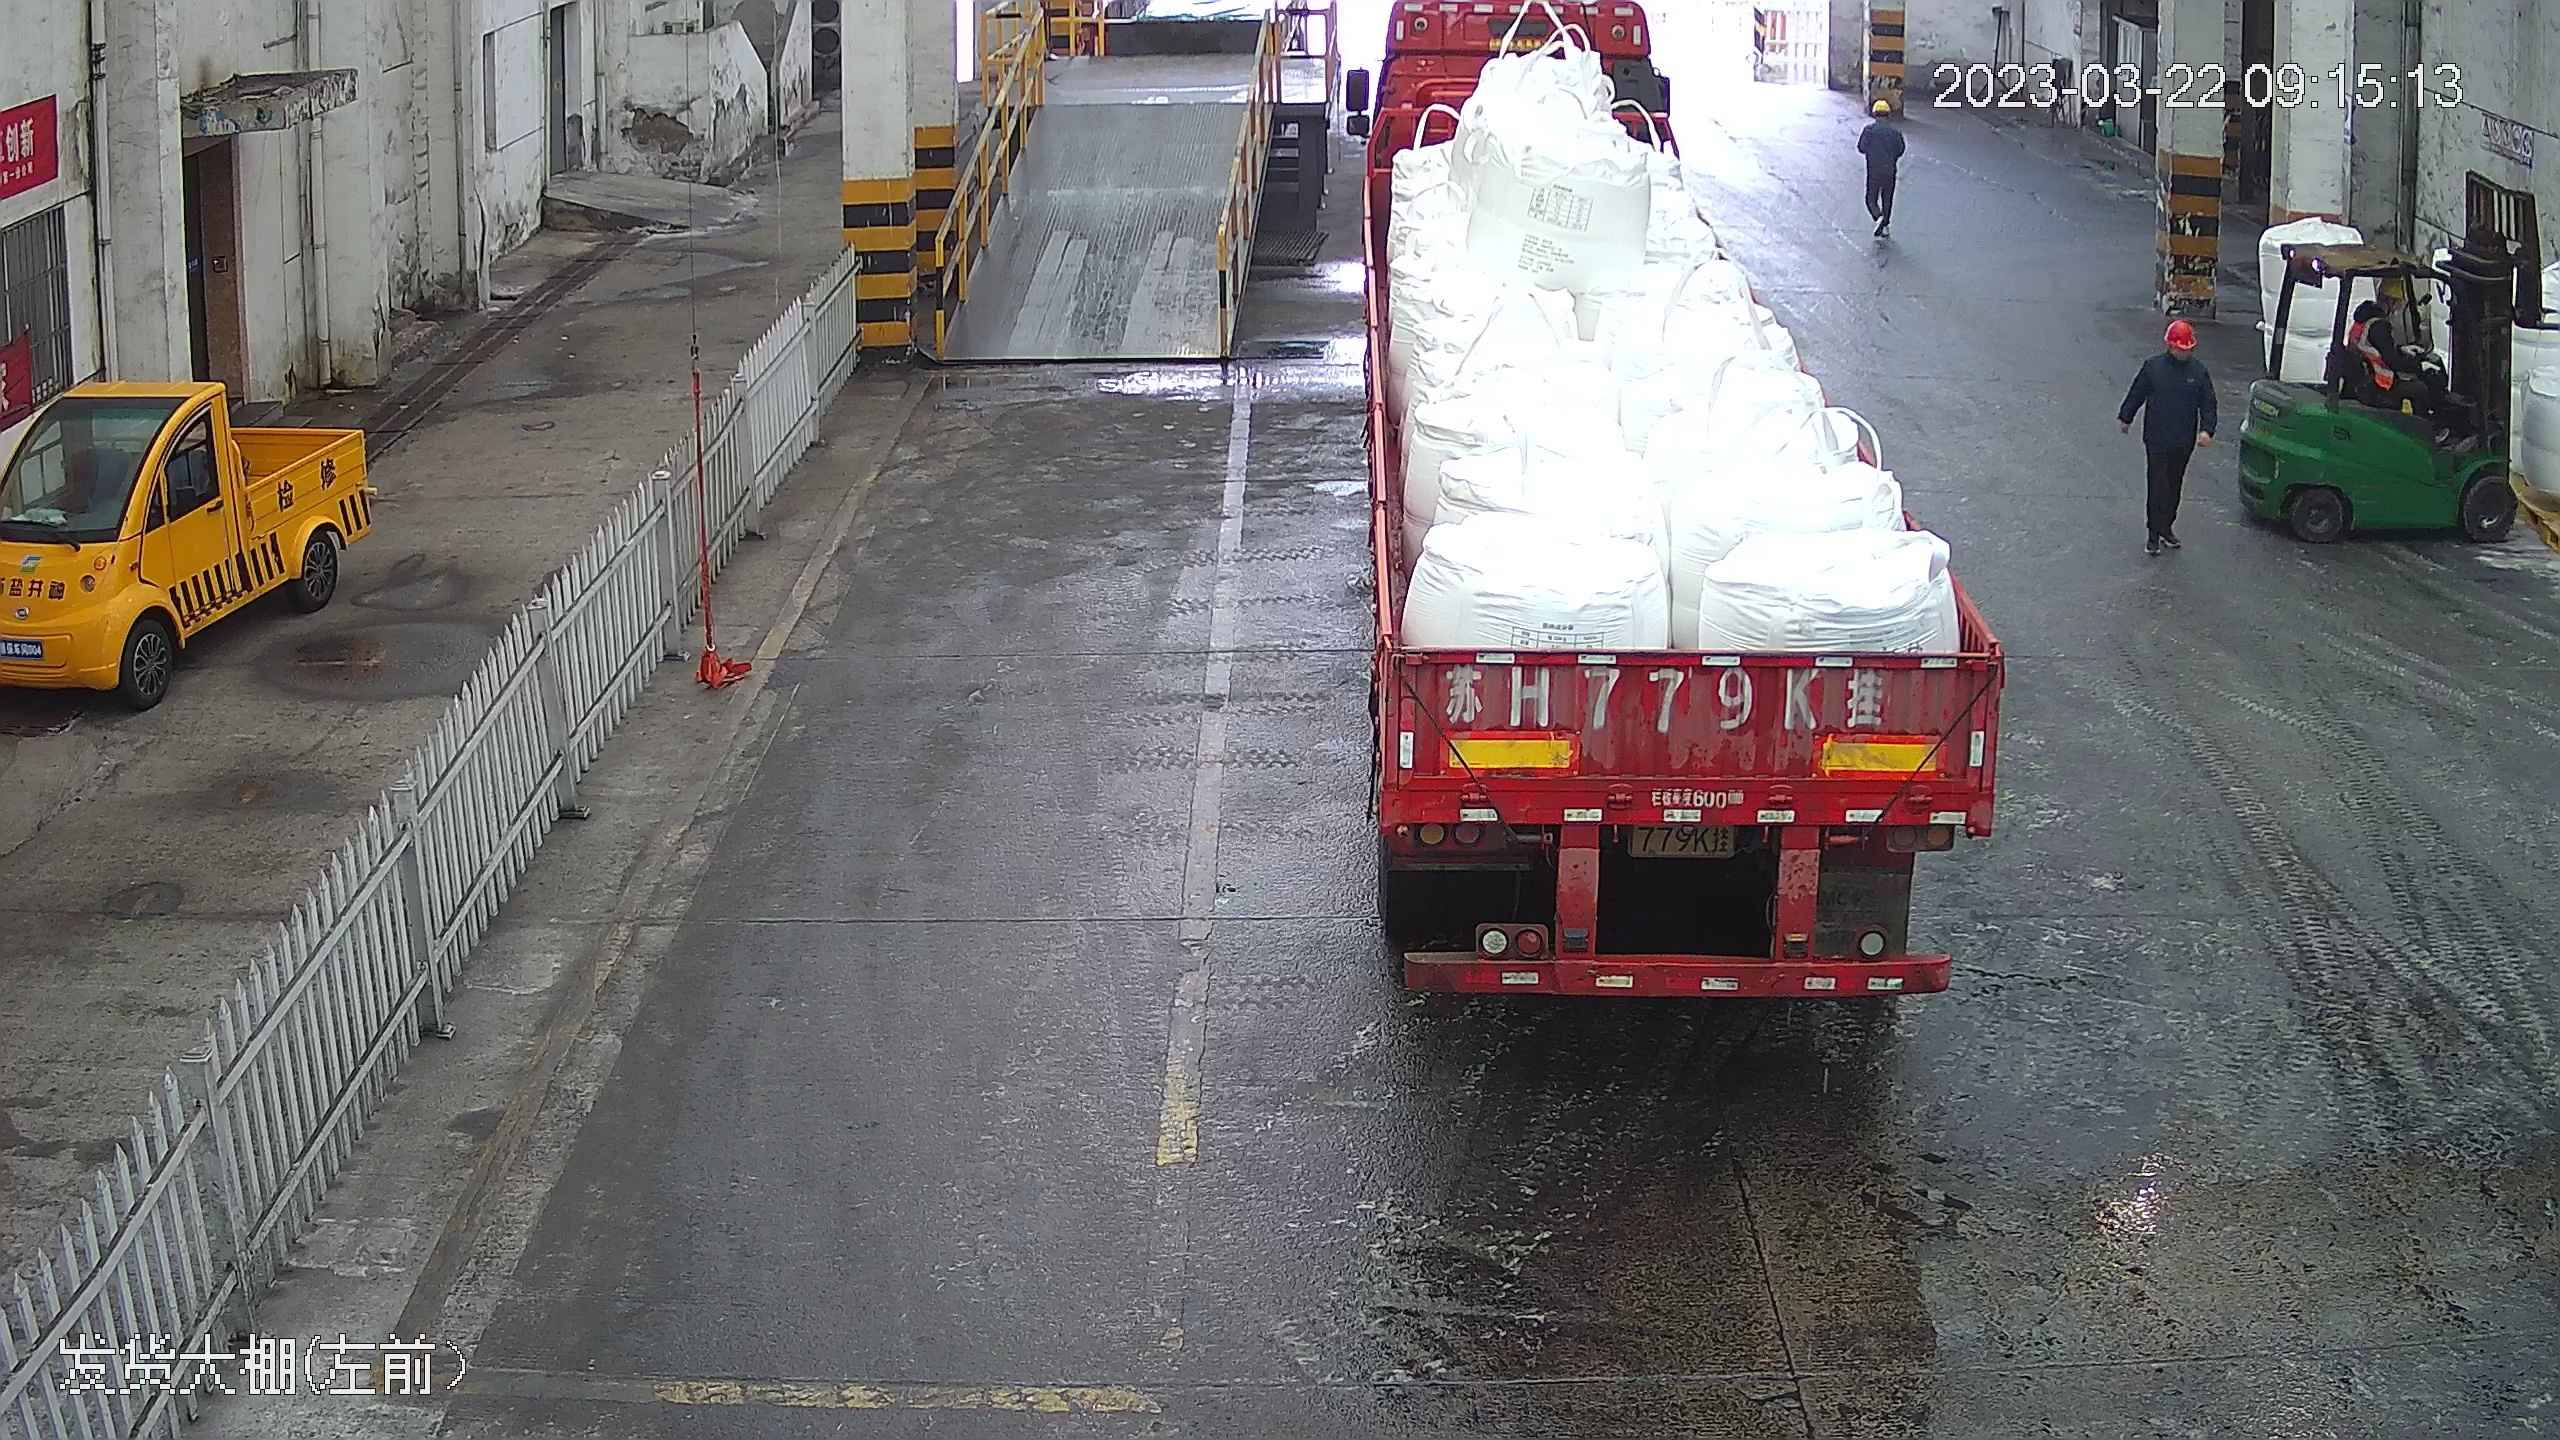head: (2139, 317, 2211, 391), (2354, 277, 2411, 346), (1861, 93, 1905, 142)
helmet: (2163, 317, 2198, 344), (2373, 274, 2407, 301), (1868, 91, 1896, 115)
people: (2115, 312, 2216, 555), (1853, 89, 1909, 247)
truck: (1336, 1, 1999, 993)
